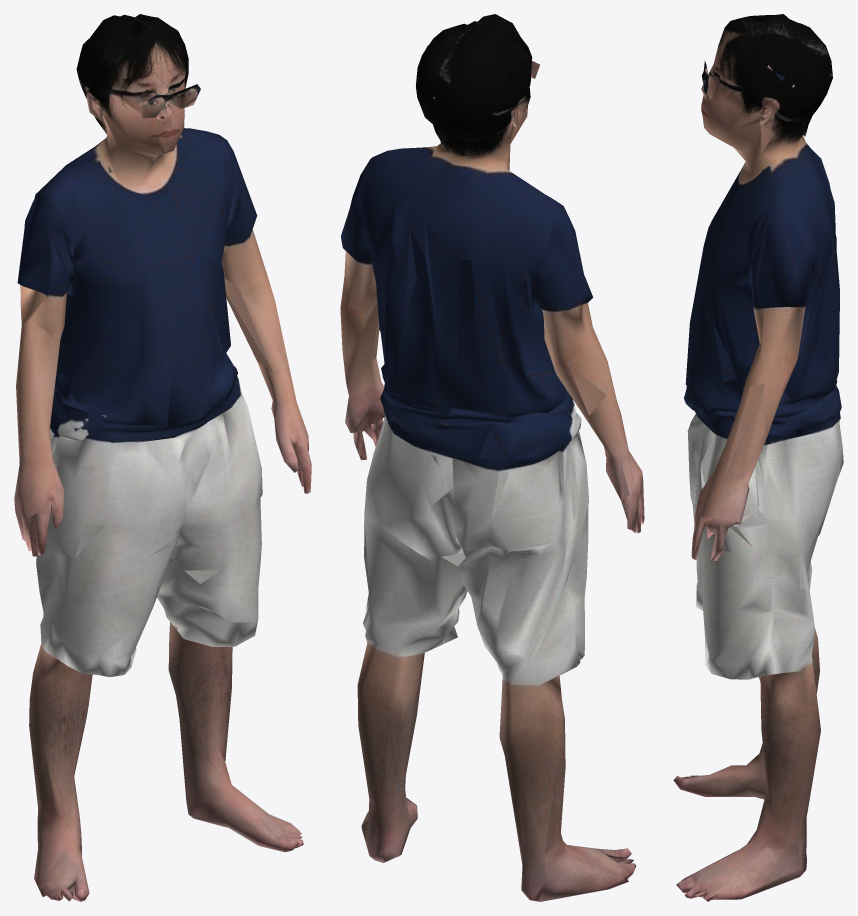
Rendered from figure.glb.
3 renders of one model, left to right at view 1: azimuth 30°, elevation 25°; view 2: azimuth 150°, elevation 25°; view 3: azimuth 270°, elevation 25°, orthographic. The views are drawn at different scales.
Parts seen in each view (by area): view 1: Mesh_0; view 2: Mesh_0; view 3: Mesh_0.
Boxes of the visible parts, box(x1,y1,x2,y2) form: Mesh_0: box(14, 14, 311, 901); Mesh_0: box(340, 14, 644, 901); Mesh_0: box(673, 14, 843, 901).
Bounding box in the file's own units: 0.597 × 1.67 × 0.3137.
Materials: 1 (1 with a texture image).
